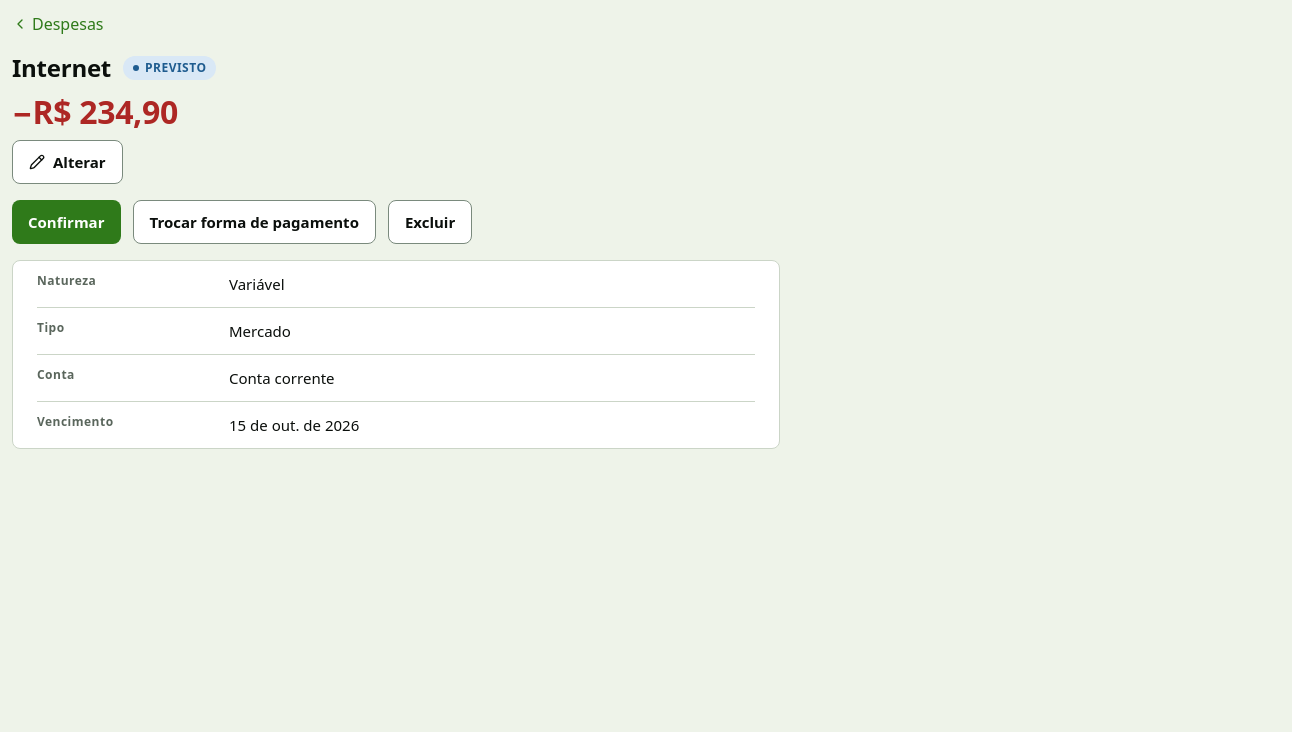
Scenario: ExpenseDetailPage actions (spec 0012) › confirms a forecast expense sending only the status
What coordinates should you click on to do the following:
click the button "Confirmar"
I would click on:
 (66, 222)
Its box is [12,200,120,244].
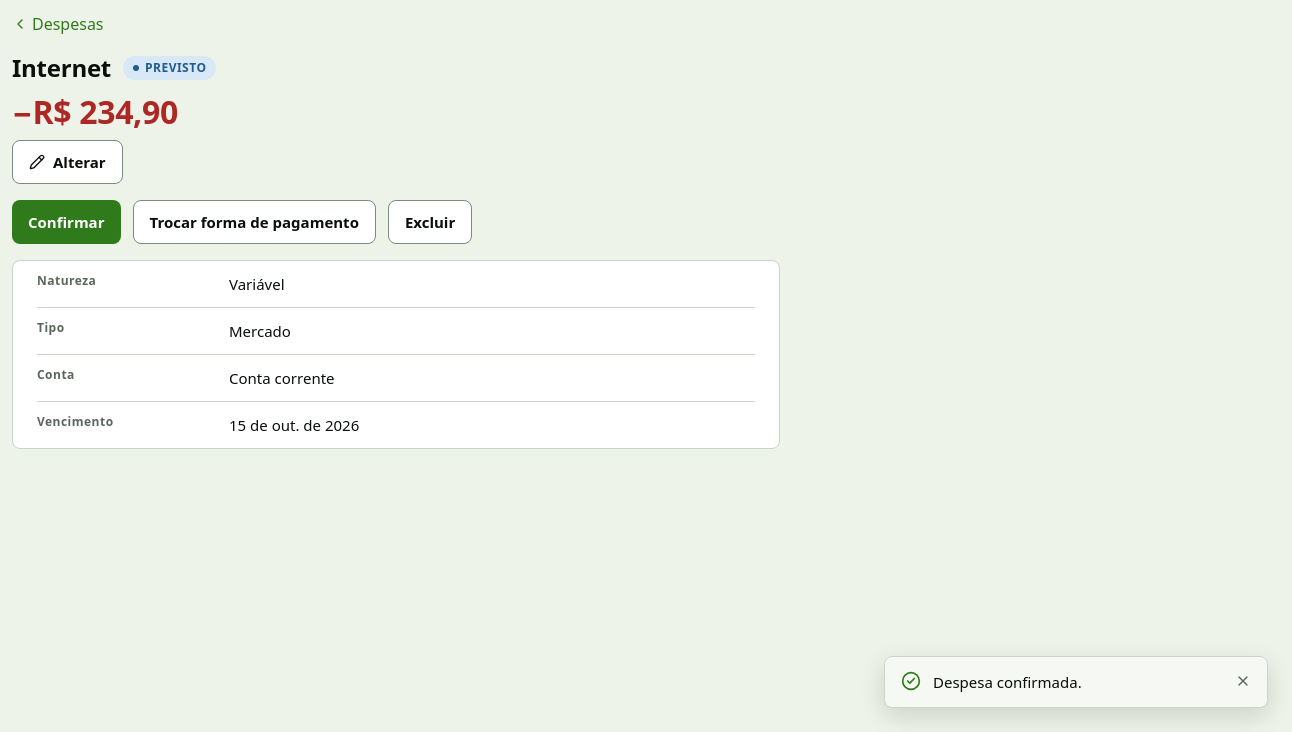
Expected: the text "Despesa confirmada." is shown, [933,672,1082,692]
